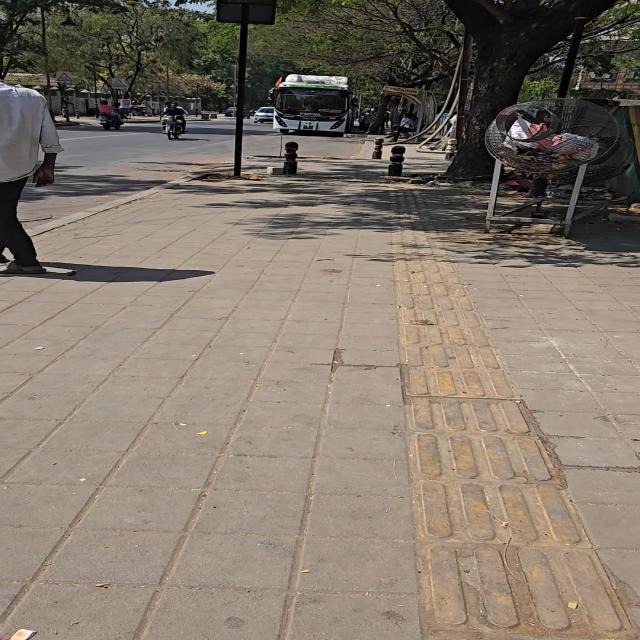obstacle: (446, 30, 538, 177), (368, 94, 392, 134), (283, 141, 299, 175), (388, 146, 405, 176), (372, 138, 384, 160), (446, 138, 456, 160), (75, 109, 79, 118)
person: (0, 82, 63, 275), (162, 102, 187, 132), (393, 114, 417, 141), (99, 99, 121, 124), (359, 112, 372, 132), (99, 99, 113, 114)
